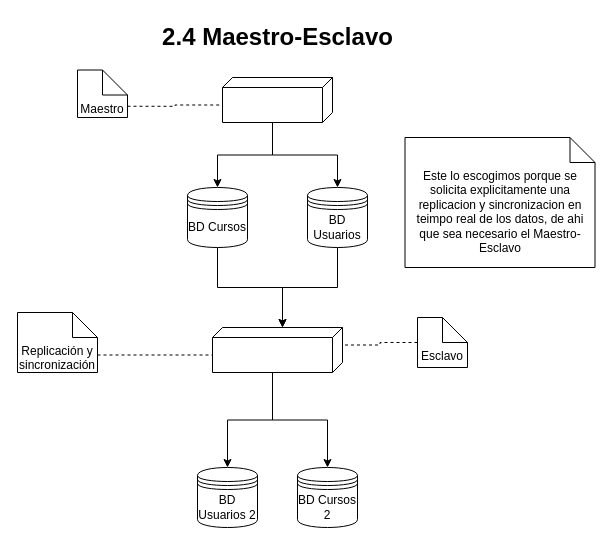
The diagram is 613 pixels wide and 545 high, and some of its shapes have lost their labels. Here are the shapes that lost their labels. From the top down, the centre of each, then its label:
At point (277, 99): "Servidor principal".
At point (277, 349): "Servidor secundario".
